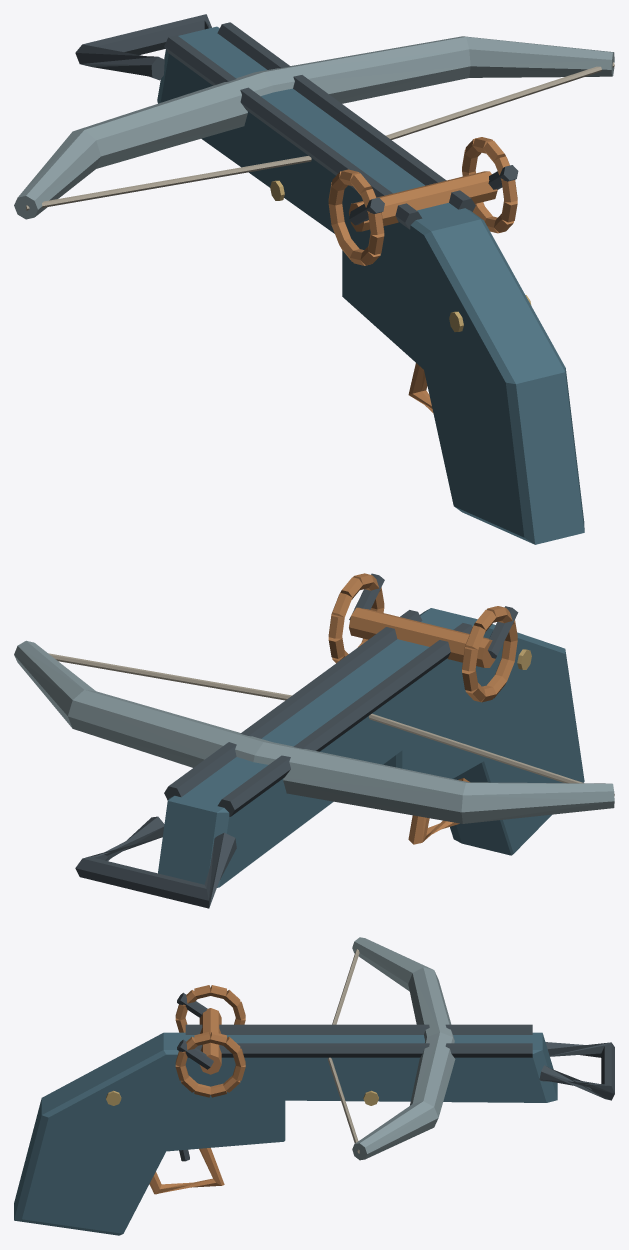
Rendered from AEW_Crossbow_SaltWinch.fbx.
3 renders of one model, top to bottom at view 1: azimuth 30°, elevation 25°; view 2: azimuth 150°, elevation 25°; view 3: azimuth 270°, elevation 25°, orthographic. The views are drawn at different scales.
Visible parts, largest first — view 1: AEW_Crossbow_SaltWinch; view 2: AEW_Crossbow_SaltWinch; view 3: AEW_Crossbow_SaltWinch.
Boxes of the visible parts, x1=… form: AEW_Crossbow_SaltWinch: x1=14, y1=14, x2=614, y2=544; AEW_Crossbow_SaltWinch: x1=14, y1=573, x2=614, y2=908; AEW_Crossbow_SaltWinch: x1=14, y1=937, x2=614, y2=1235.
Bounding box in the file's own units: 0.9003 × 0.4334 × 1.08.
